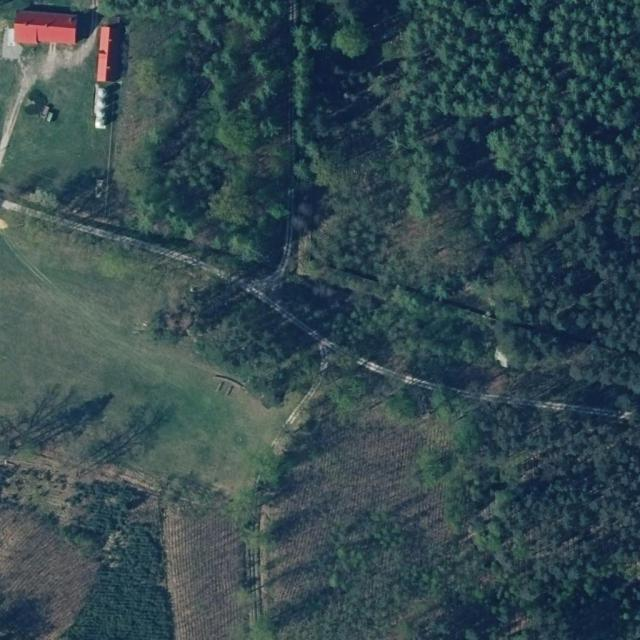building: (14, 9, 78, 45), (93, 26, 110, 129)
dryland: (207, 391, 478, 616), (162, 508, 245, 639)
greenland: (145, 257, 336, 426), (0, 461, 173, 639), (0, 39, 134, 215), (231, 379, 361, 515), (305, 349, 403, 439), (0, 0, 70, 21)
unmetalled_road: (226, 279, 632, 457), (256, 187, 312, 295)
